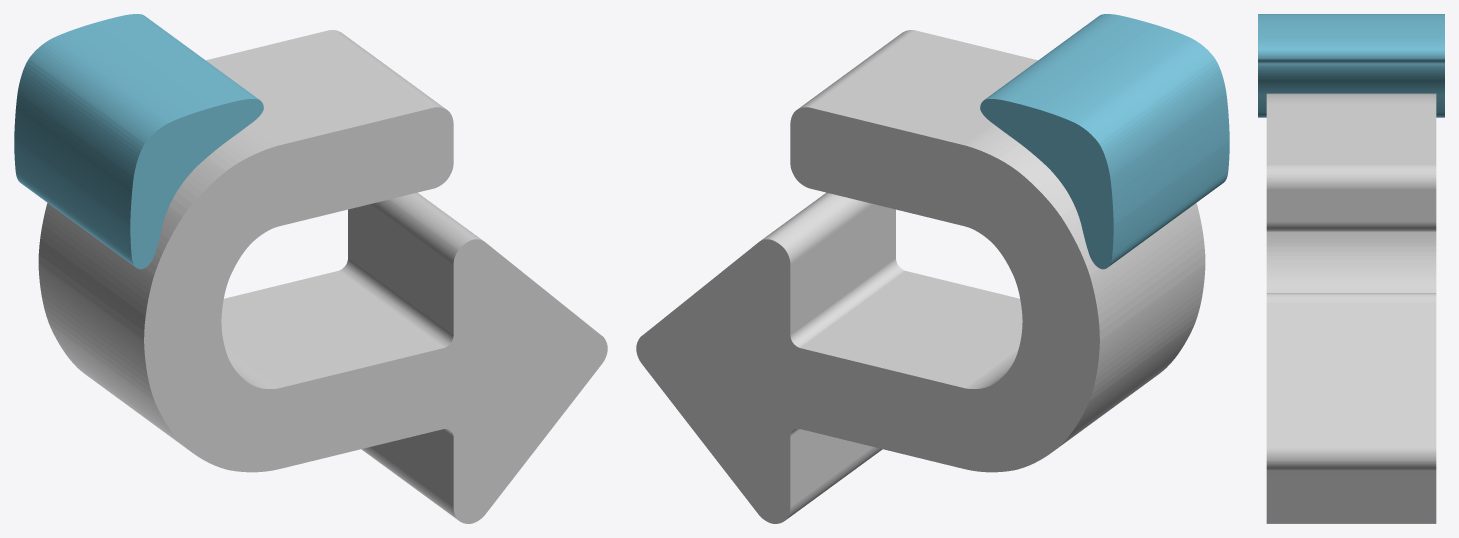
The picture shows the model from 3 angles, left to right: view 1: azimuth 30°, elevation 25°; view 2: azimuth 150°, elevation 25°; view 3: azimuth 270°, elevation 25°; orthographic projection. The views are drawn at different scales.
Visible parts, largest first — view 1: U+21AA_layer00_obj00, U+21AA_layer01_obj00; view 2: U+21AA_layer00_obj00, U+21AA_layer01_obj00; view 3: U+21AA_layer00_obj00, U+21AA_layer01_obj00.
Boxes of the visible parts, x1=… form: U+21AA_layer00_obj00: x1=38, y1=30, x2=607, y2=523; U+21AA_layer01_obj00: x1=14, y1=14, x2=263, y2=269; U+21AA_layer00_obj00: x1=636, y1=30, x2=1205, y2=523; U+21AA_layer01_obj00: x1=980, y1=14, x2=1229, y2=269; U+21AA_layer00_obj00: x1=1266, y1=93, x2=1436, y2=523; U+21AA_layer01_obj00: x1=1258, y1=14, x2=1444, y2=117.
Size of the model in its own units: 0.2642 by 0.2536 by 0.11.
